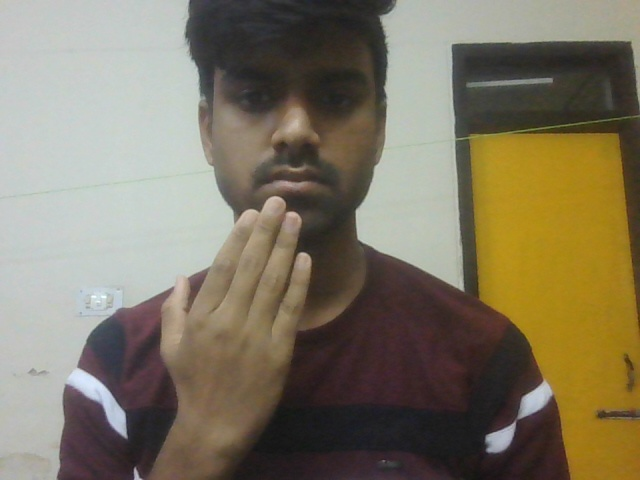thanks: (140, 189, 318, 480)
